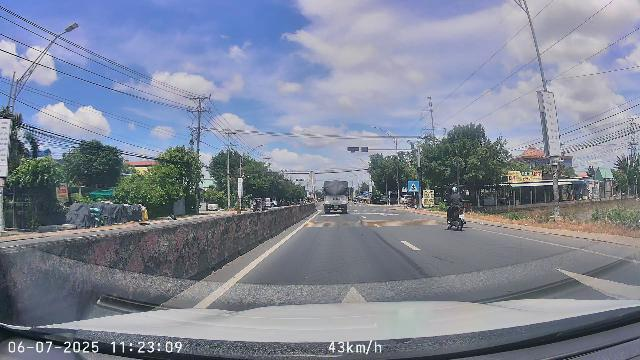423a-duong-nguoi-di-bo-sang-ngang-1: (408, 181, 419, 192)
